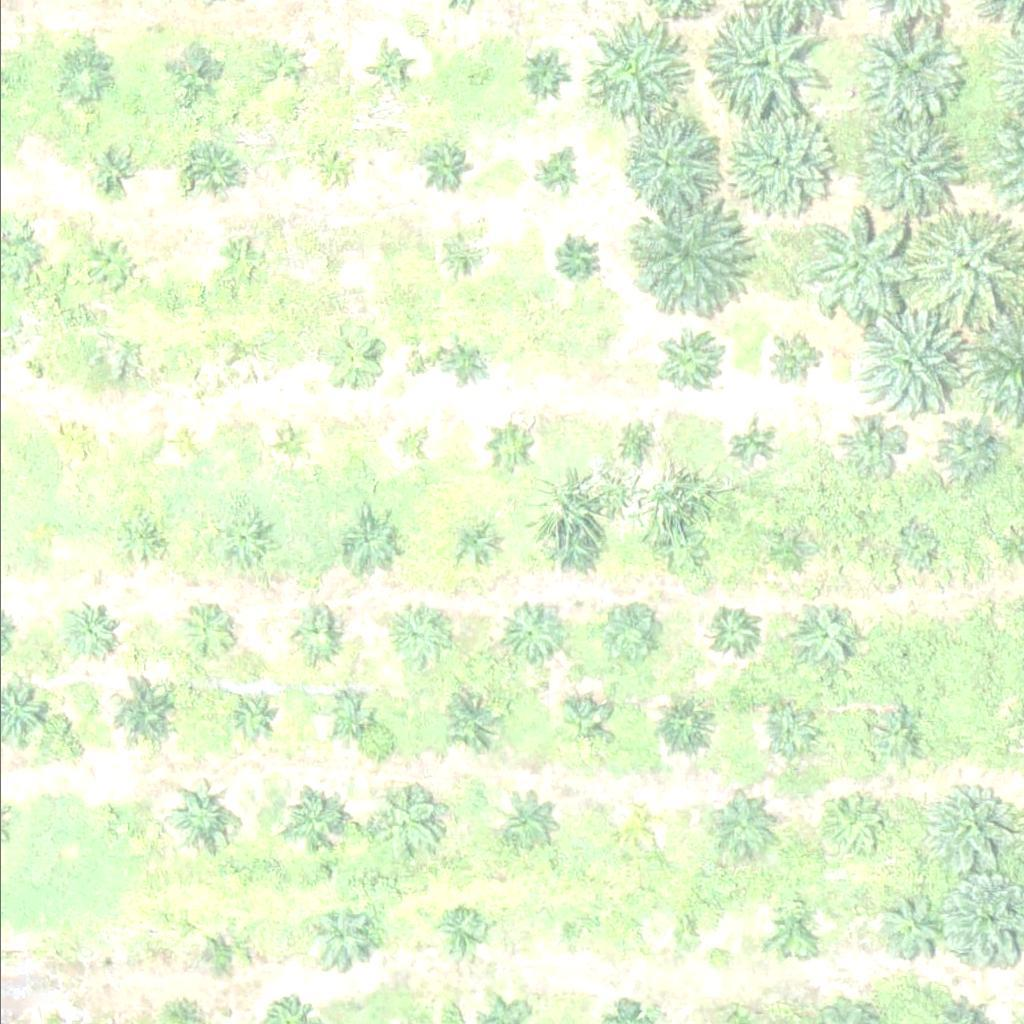Kelapa_Sawit: (700, 4, 826, 129), (620, 200, 745, 325), (805, 212, 918, 325), (719, 101, 832, 214), (845, 309, 958, 421), (910, 213, 1023, 325), (569, 10, 682, 122), (620, 111, 721, 211), (855, 117, 956, 217), (856, 16, 957, 116), (919, 789, 1007, 876), (98, 670, 186, 757), (159, 778, 235, 853), (589, 592, 665, 667), (654, 324, 729, 399), (174, 596, 237, 659), (381, 601, 444, 664), (57, 599, 120, 662), (308, 907, 371, 970), (338, 514, 401, 577), (208, 510, 271, 573), (538, 515, 601, 578), (839, 411, 902, 474), (937, 421, 1000, 484), (709, 795, 772, 858), (654, 694, 717, 757), (864, 704, 927, 767), (497, 600, 560, 662), (437, 690, 500, 752), (280, 790, 343, 852), (371, 792, 433, 855), (492, 798, 555, 860), (181, 139, 244, 201), (80, 233, 143, 295), (795, 601, 858, 663), (882, 897, 945, 959), (819, 795, 882, 857), (320, 329, 383, 391), (58, 51, 109, 101), (446, 519, 497, 569), (176, 49, 227, 99), (761, 338, 812, 388), (771, 903, 822, 953), (194, 928, 245, 978), (652, 526, 703, 576), (87, 144, 138, 194), (288, 608, 338, 658), (558, 700, 608, 750), (437, 907, 487, 957), (519, 49, 569, 99), (421, 143, 471, 193), (120, 513, 170, 563), (706, 608, 756, 658), (765, 702, 815, 752), (442, 339, 492, 389), (217, 239, 267, 289), (257, 42, 307, 92), (226, 689, 277, 738), (489, 433, 527, 471), (561, 240, 599, 278), (898, 526, 936, 564), (772, 533, 810, 571), (388, 426, 426, 464), (269, 424, 307, 462), (162, 426, 200, 464), (62, 422, 100, 460), (315, 148, 353, 186), (370, 51, 408, 89), (535, 157, 573, 194), (330, 699, 368, 736), (437, 234, 475, 271), (308, 246, 346, 283), (10, 329, 48, 366), (728, 424, 765, 461), (618, 428, 655, 465), (560, 921, 585, 946), (676, 921, 701, 946), (622, 816, 647, 841), (95, 806, 120, 831), (885, 643, 910, 668)
